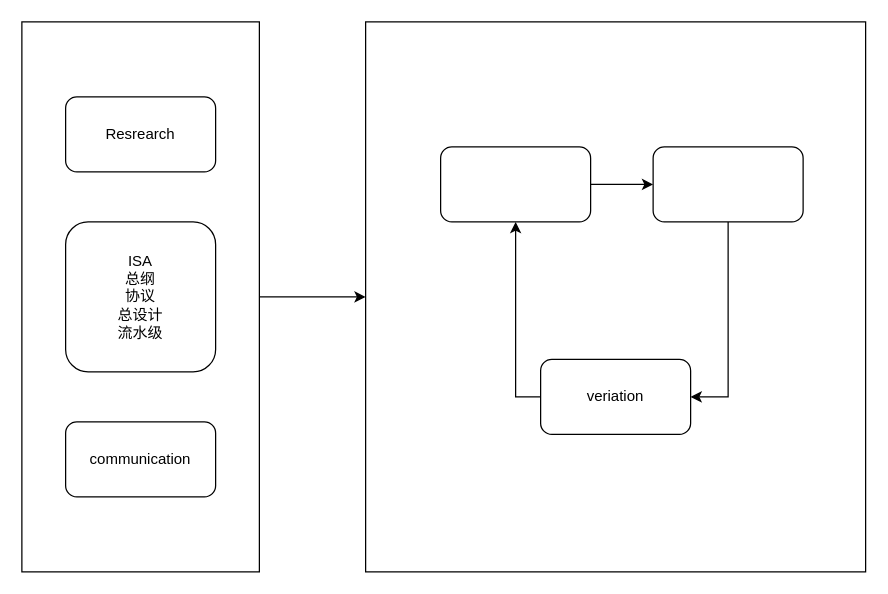
This 888x594 diagram has some shape labels left out. Each missing label, with the box of its shape:
Design: (439, 146, 591, 222)
Impliment: (652, 146, 803, 222)
